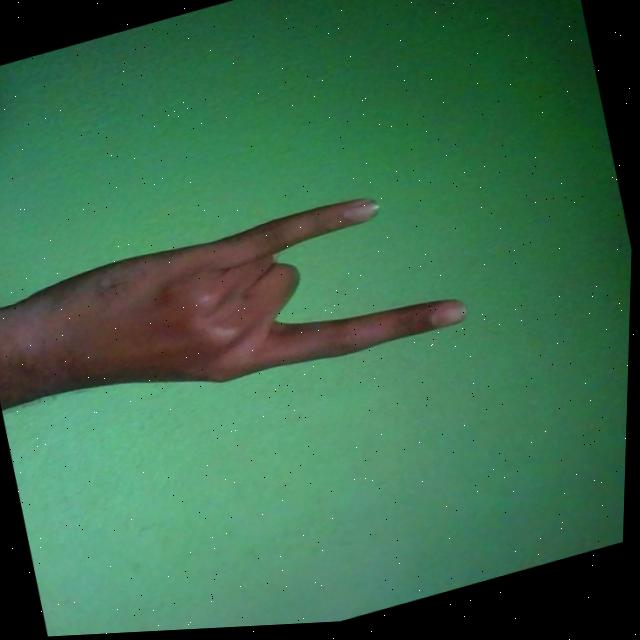Rock On: (0, 171, 477, 449)
